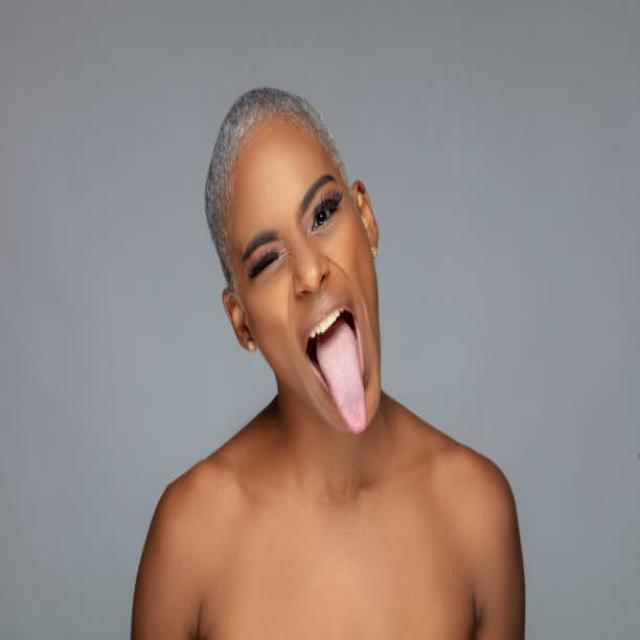tongue: (322, 320, 373, 438)
